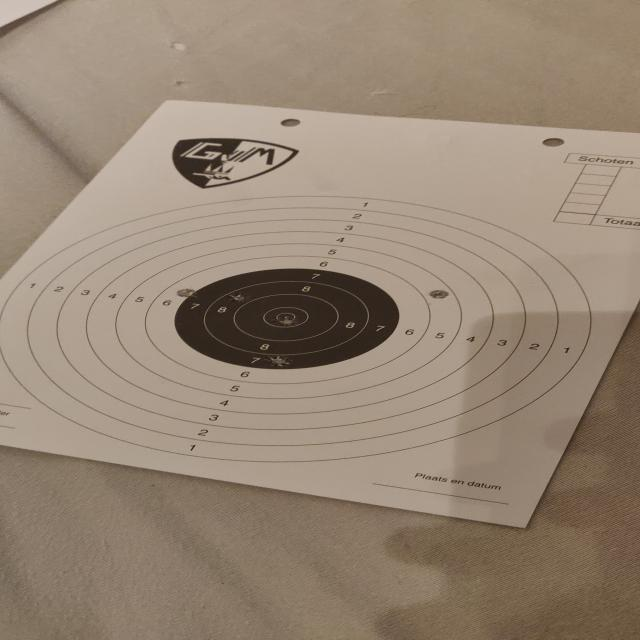10: (271, 316, 301, 327)
5: (429, 289, 450, 300)
7: (263, 354, 293, 368), (176, 288, 200, 298)
8: (225, 290, 250, 302)
Target: (0, 194, 595, 464)
black_contour: (175, 268, 400, 370)
